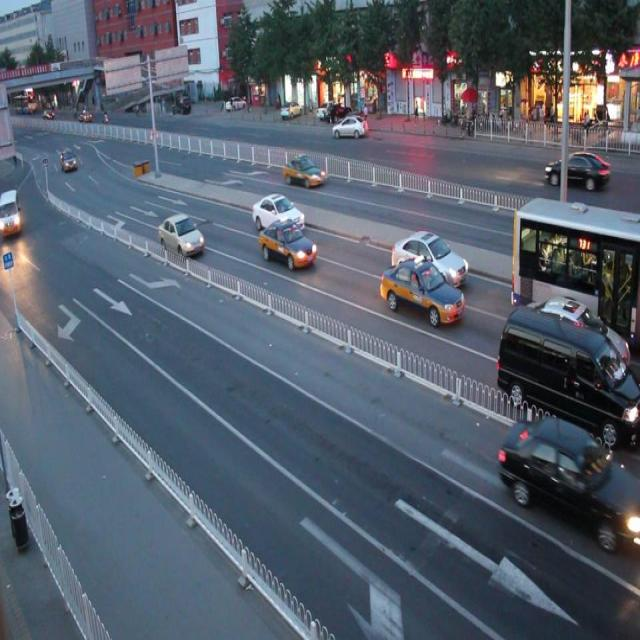car: (496, 411, 640, 549), (518, 294, 628, 390), (379, 259, 465, 325), (389, 230, 468, 284), (543, 148, 609, 192), (259, 219, 316, 267), (251, 192, 306, 232), (158, 213, 205, 259), (282, 152, 325, 188)
truck: (496, 300, 640, 446)
van: (510, 193, 640, 350)
